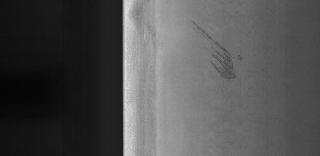water spot: (188, 18, 250, 85)
